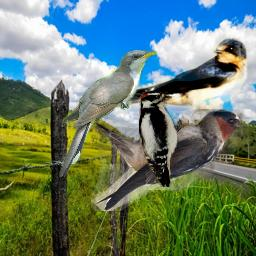Cuckoo: (59, 50, 157, 177)
Swallow: (91, 109, 249, 211), (95, 37, 250, 117)
Woodpecker: (139, 91, 189, 187)
